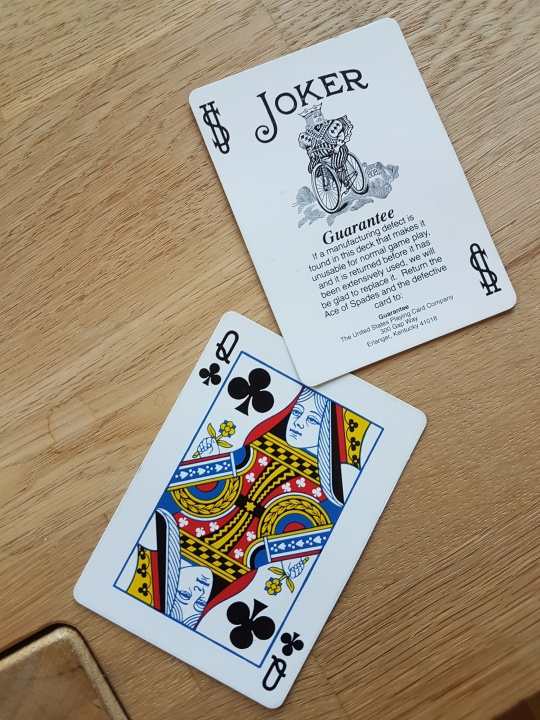queen: (69, 298, 420, 715)
